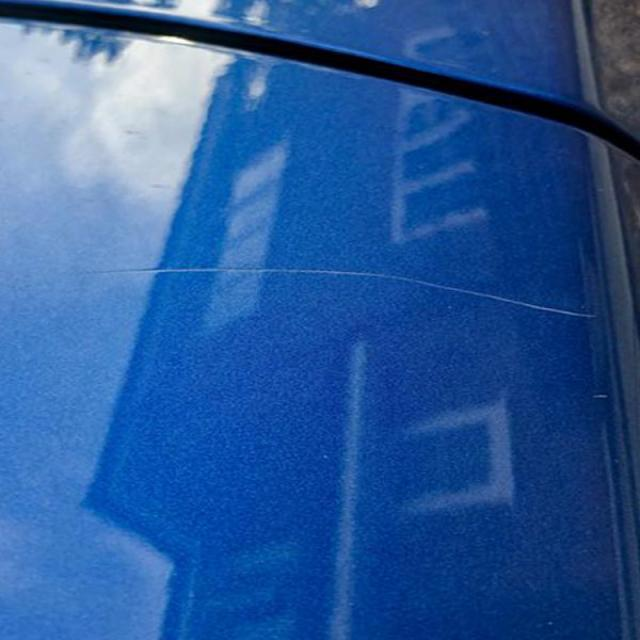scratch: (94, 256, 604, 333)
